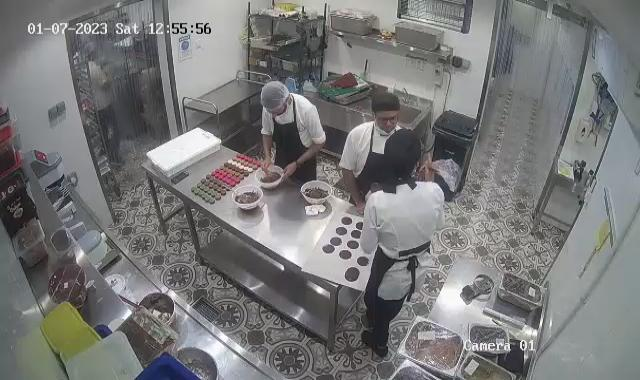hairnet: (260, 81, 290, 117)
no_hairnet: (384, 128, 422, 177), (369, 92, 402, 120)
